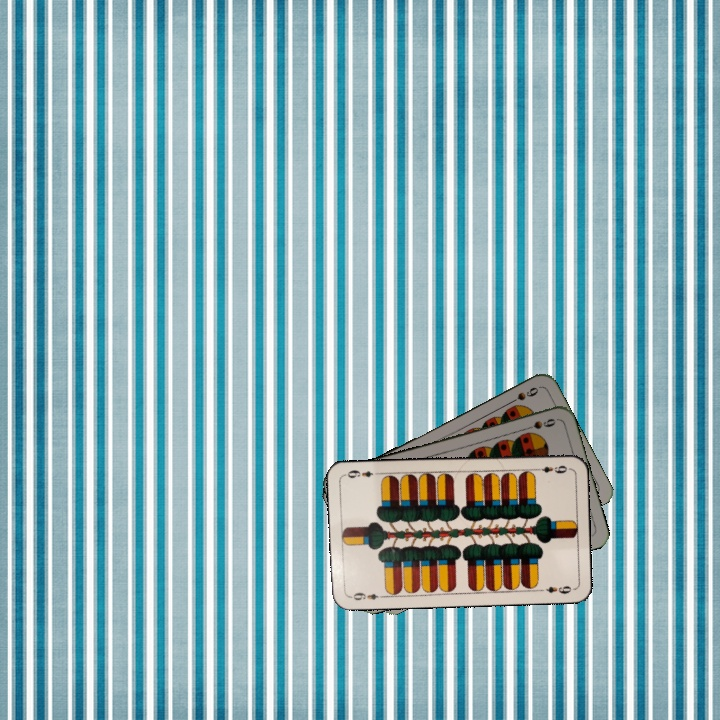E9: (346, 588, 387, 603), (531, 461, 571, 476)
S9: (503, 383, 541, 407), (519, 414, 559, 433)
